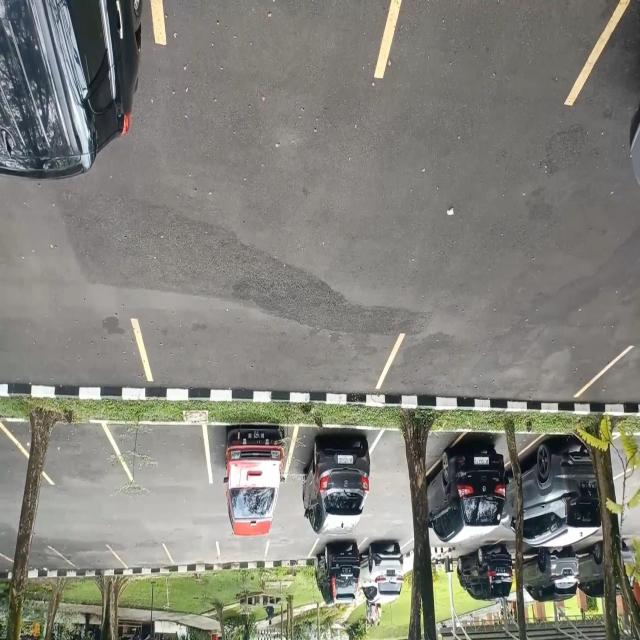empty: (388, 0, 600, 134), (150, 0, 401, 97), (135, 314, 403, 396), (385, 334, 614, 407), (20, 418, 118, 493), (120, 422, 210, 494), (63, 539, 114, 582), (168, 537, 220, 579), (115, 539, 169, 578), (218, 537, 268, 577), (266, 539, 314, 574)
occupied: (210, 423, 292, 525), (525, 437, 599, 549), (430, 435, 510, 537), (292, 430, 376, 522), (362, 538, 410, 597), (315, 538, 362, 596)
